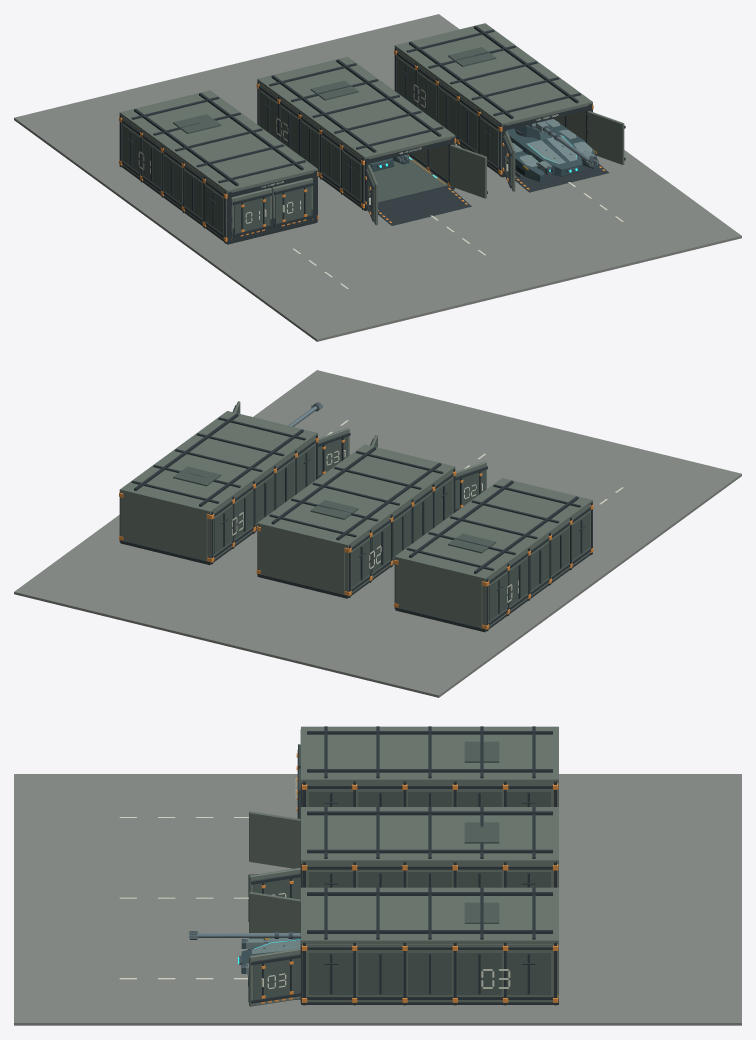
Rendered from mork_container_diorama.glb.
The picture shows the model from 3 angles, top to bottom: view 1: azimuth 30°, elevation 25°; view 2: azimuth 150°, elevation 25°; view 3: azimuth 270°, elevation 25°; orthographic projection. The views are drawn at different scales.
Parts seen in each view (by area): view 1: Geometry_ROOT.003_Fractured geopolymer, Geometry_ROOF_02.001_Transport / armored olive, Geometry_ROOF_03_Transport / armored olive, Geometry_ROOF_01.001_Transport / armored olive, Geometry_SHELL_02.001_Transport / inset panels, Geometry_SHELL_01.001_Transport / graphite frame, Geometry_SHELL_01.001_Transport / inset panels, Geometry_SHELL_03_Transport / inset panels, Geometry_SHELL_02.001_Transport / graphite frame, Geometry_SHELL_03_Transport / graphite frame, Geometry_ROOF_02.001_Transport / graphite frame, Geometry_ROOF_03_Transport / graphite frame (+15 smaller); view 2: Geometry_ROOT.003_Fractured geopolymer, Geometry_ROOF_03_Transport / armored olive, Geometry_ROOF_02.001_Transport / armored olive, Geometry_ROOF_01.001_Transport / armored olive, Geometry_SHELL_01.001_Transport / armored olive, Geometry_SHELL_03_Transport / armored olive, Geometry_SHELL_02.001_Transport / armored olive, Geometry_SHELL_01.001_Transport / inset panels, Geometry_SHELL_02.001_Transport / inset panels, Geometry_SHELL_03_Transport / inset panels, Geometry_SHELL_01.001_Transport / graphite frame, Geometry_ROOF_01.001_Transport / graphite frame (+9 smaller); view 3: Geometry_ROOT.003_Fractured geopolymer, Geometry_ROOF_02.001_Transport / armored olive, Geometry_ROOF_01.001_Transport / armored olive, Geometry_ROOF_03_Transport / armored olive, Geometry_SHELL_03_Transport / inset panels, Geometry_SHELL_03_Transport / graphite frame, Geometry_SHELL_03_Transport / armored olive, Geometry_SHELL_02.001_Transport / inset panels, Geometry_SHELL_01.001_Transport / inset panels, Geometry_ROOF_02.001_Transport / graphite frame, Geometry_ROOF_01.001_Transport / graphite frame, Geometry_ROOF_03_Transport / graphite frame (+15 smaller).
Part boxes in pixels (bbox=[...]): Geometry_ROOT.003_Fractured geopolymer: bbox=[14, 14, 741, 341]; Geometry_ROOF_02.001_Transport / armored olive: bbox=[257, 56, 455, 160]; Geometry_ROOF_03_Transport / armored olive: bbox=[394, 23, 592, 126]; Geometry_ROOF_01.001_Transport / armored olive: bbox=[119, 90, 317, 193]; Geometry_SHELL_02.001_Transport / inset panels: bbox=[260, 91, 447, 202]; Geometry_SHELL_01.001_Transport / graphite frame: bbox=[119, 114, 317, 244]; Geometry_SHELL_01.001_Transport / inset panels: bbox=[122, 124, 223, 233]; Geometry_SHELL_03_Transport / inset panels: bbox=[397, 57, 498, 166]; Geometry_SHELL_02.001_Transport / graphite frame: bbox=[257, 81, 455, 210]; Geometry_SHELL_03_Transport / graphite frame: bbox=[394, 47, 592, 177]; Geometry_ROOF_02.001_Transport / graphite frame: bbox=[269, 59, 443, 152]; Geometry_ROOF_03_Transport / graphite frame: bbox=[406, 26, 580, 118]; Geometry_ROOT.003_Fractured geopolymer: bbox=[14, 370, 741, 697]; Geometry_ROOF_03_Transport / armored olive: bbox=[119, 411, 317, 514]; Geometry_ROOF_02.001_Transport / armored olive: bbox=[257, 444, 455, 548]; Geometry_ROOF_01.001_Transport / armored olive: bbox=[394, 478, 592, 581]; Geometry_SHELL_01.001_Transport / armored olive: bbox=[395, 504, 590, 627]; Geometry_SHELL_03_Transport / armored olive: bbox=[120, 437, 315, 560]; Geometry_SHELL_02.001_Transport / armored olive: bbox=[257, 471, 453, 594]; Geometry_SHELL_01.001_Transport / inset panels: bbox=[489, 512, 590, 621]; Geometry_SHELL_02.001_Transport / inset panels: bbox=[351, 478, 452, 587]; Geometry_SHELL_03_Transport / inset panels: bbox=[214, 445, 315, 553]; Geometry_SHELL_01.001_Transport / graphite frame: bbox=[394, 502, 592, 632]; Geometry_ROOF_01.001_Transport / graphite frame: bbox=[406, 480, 580, 573]; Geometry_ROOT.003_Fractured geopolymer: bbox=[14, 774, 741, 1025]; Geometry_ROOF_02.001_Transport / armored olive: bbox=[301, 807, 558, 863]; Geometry_ROOF_01.001_Transport / armored olive: bbox=[301, 726, 558, 783]; Geometry_ROOF_03_Transport / armored olive: bbox=[301, 887, 558, 944]; Geometry_SHELL_03_Transport / inset panels: bbox=[309, 952, 550, 994]; Geometry_SHELL_03_Transport / graphite frame: bbox=[300, 890, 558, 1005]; Geometry_SHELL_03_Transport / armored olive: bbox=[302, 944, 558, 1002]; Geometry_SHELL_02.001_Transport / inset panels: bbox=[309, 871, 550, 887]; Geometry_SHELL_01.001_Transport / inset panels: bbox=[309, 791, 550, 806]; Geometry_ROOF_02.001_Transport / graphite frame: bbox=[307, 806, 552, 858]; Geometry_ROOF_01.001_Transport / graphite frame: bbox=[307, 726, 552, 778]; Geometry_ROOF_03_Transport / graphite frame: bbox=[307, 887, 552, 939].
Size of the model in its own units: 34 by 4.46 by 42.
